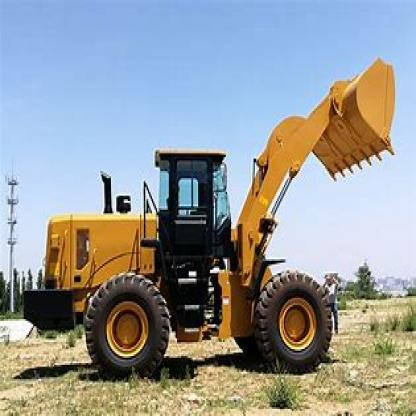bull_dozer/loader/grader: (17, 51, 406, 383)
